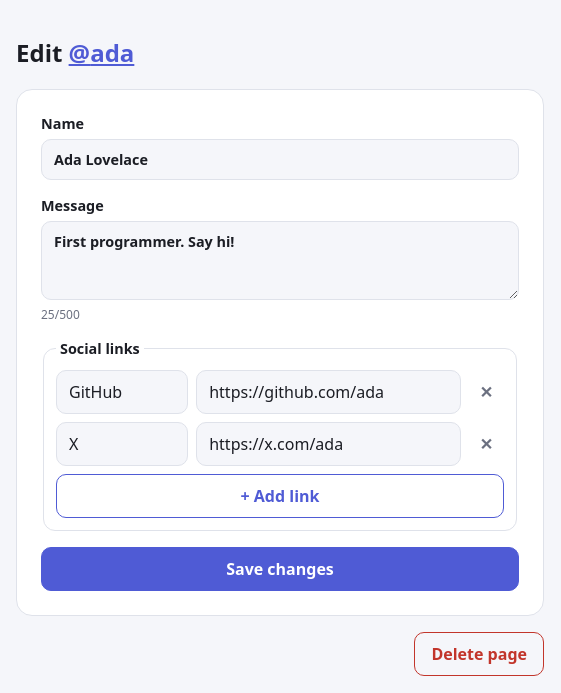
Test: EditPage › forgets a rejected key and asks again
Step 1. Click the button "Save changes" → (280, 569), box [41, 547, 519, 591]
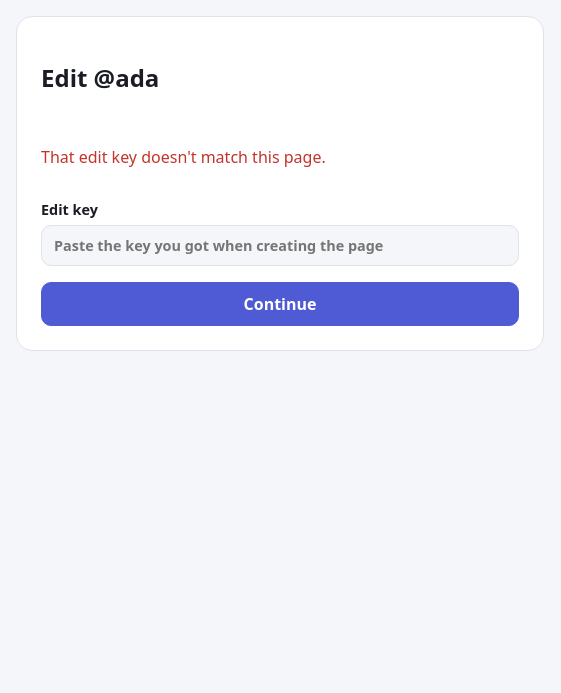
Check: the message shows "doesn't match this page", box [41, 146, 326, 168]
Check: the field with placeholder "Paste the key you got when creating the page" is shown, box [41, 225, 519, 266]
